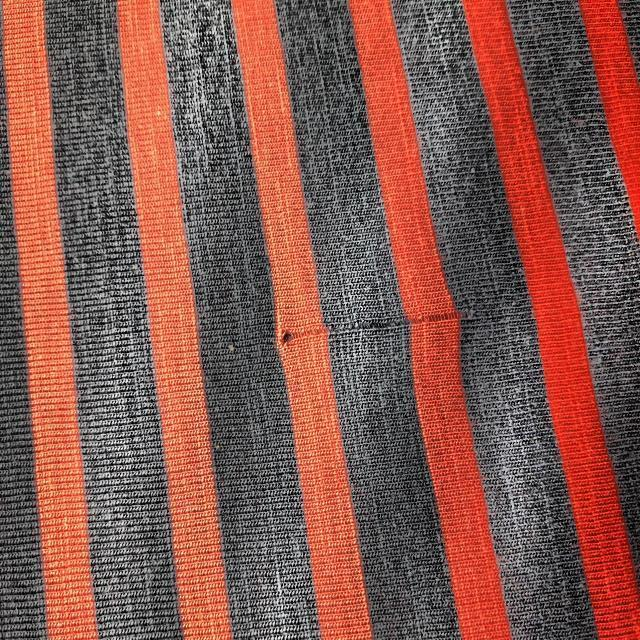baekra: (262, 301, 502, 355)
cut: (222, 336, 241, 358)
